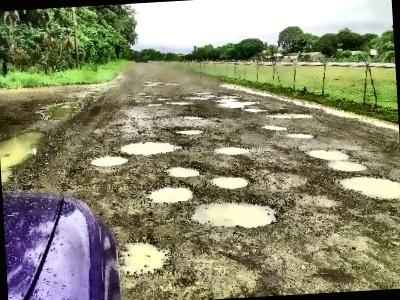pothole: (190, 195, 281, 232), (117, 238, 171, 277), (340, 172, 400, 202), (120, 139, 186, 155), (149, 182, 196, 204), (306, 145, 352, 163), (210, 172, 249, 189), (329, 158, 370, 174), (165, 163, 203, 180), (91, 153, 131, 167), (270, 107, 313, 119), (218, 98, 260, 108), (216, 144, 250, 156), (171, 126, 206, 136), (288, 130, 315, 139), (261, 122, 289, 130), (243, 105, 269, 112), (182, 113, 205, 120)
